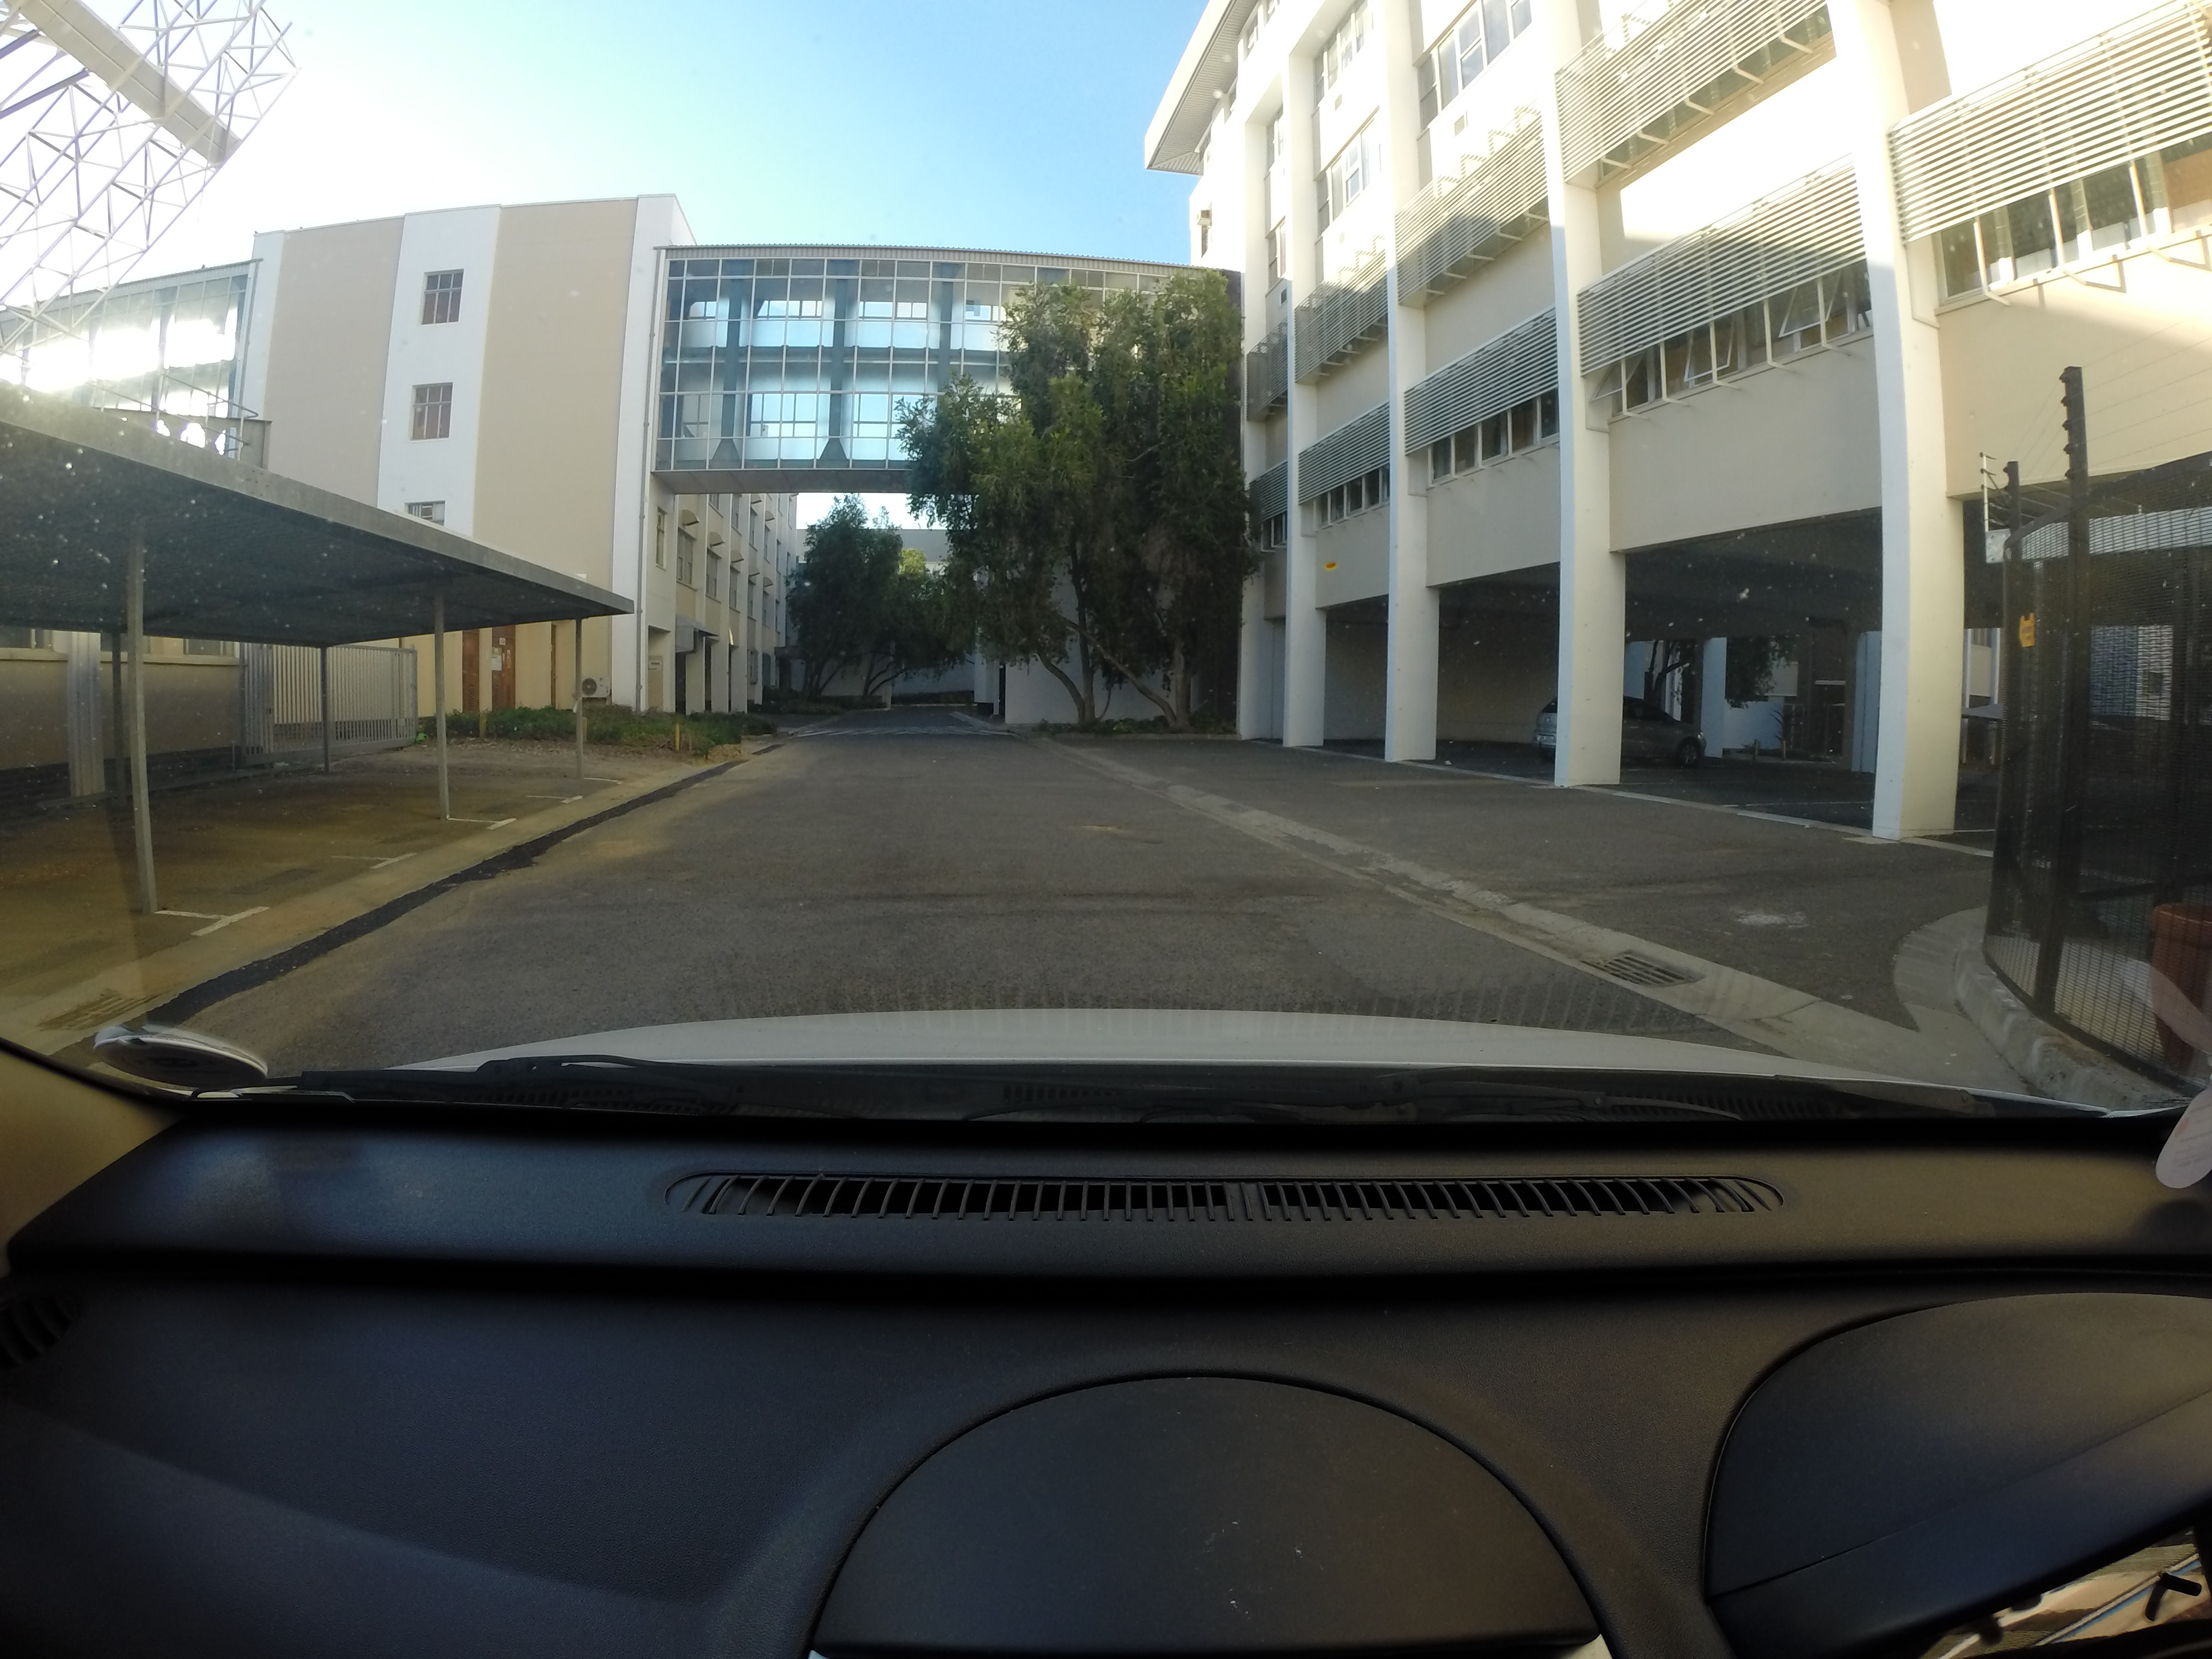pothole: (1083, 816, 1172, 842)
